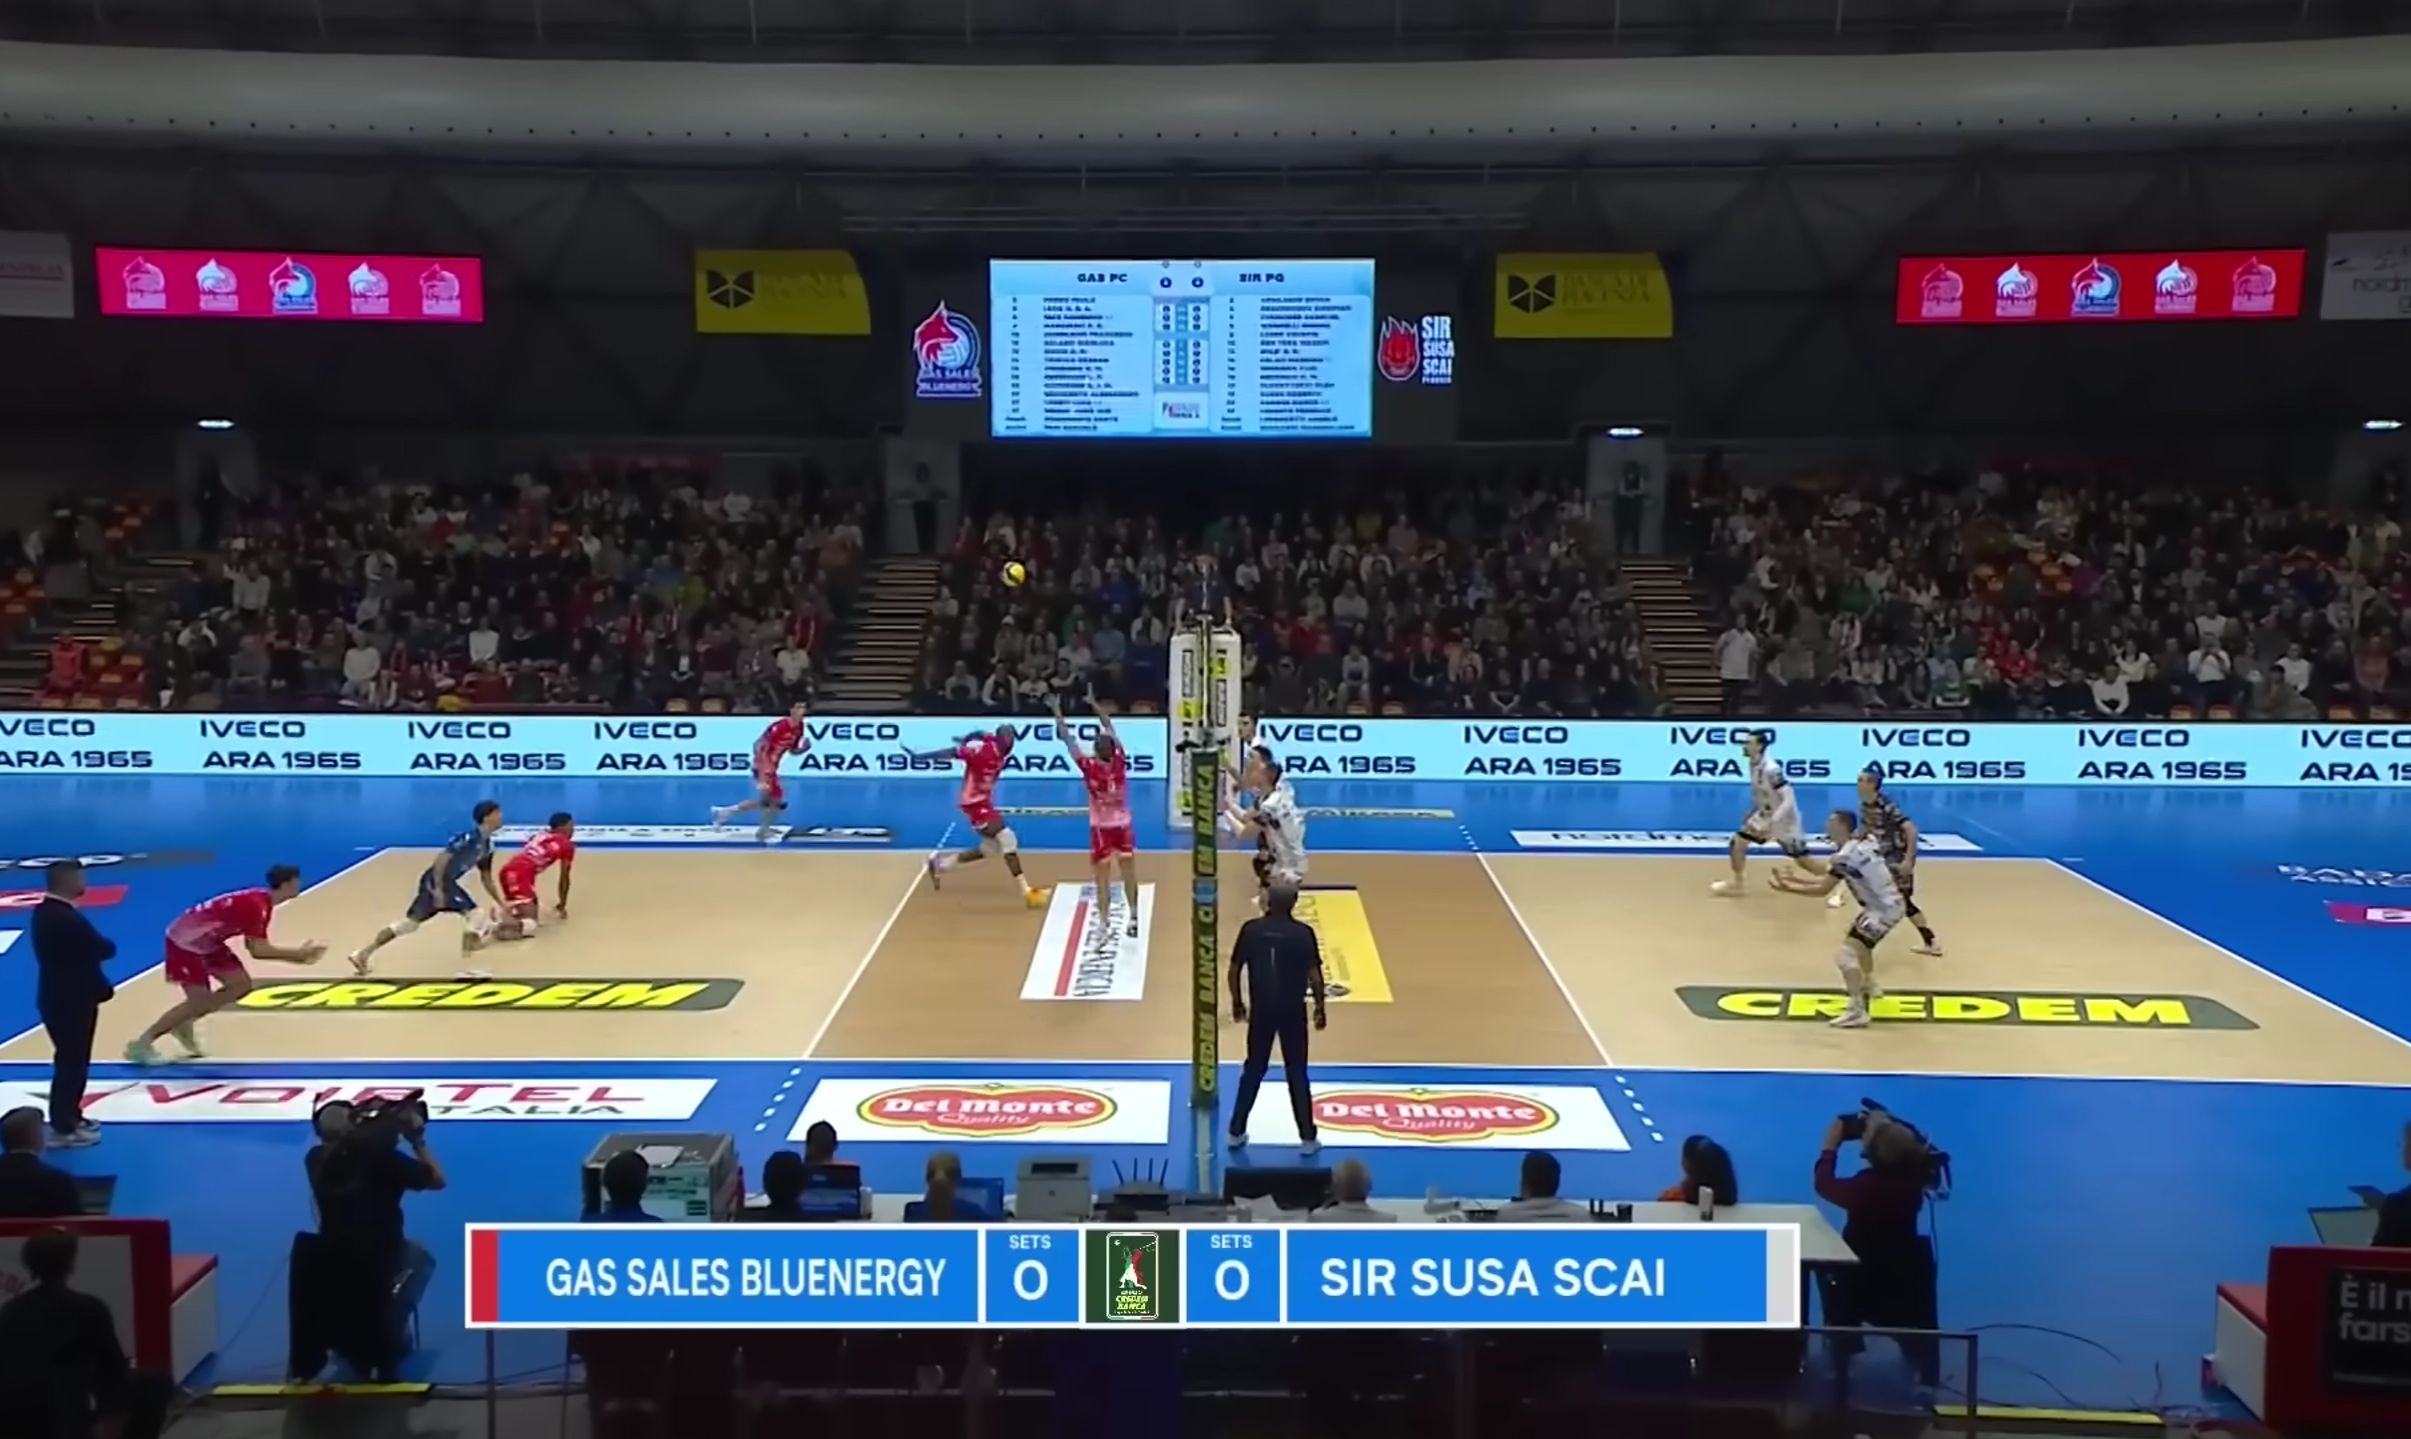Ball: (1000, 560, 1026, 588)
